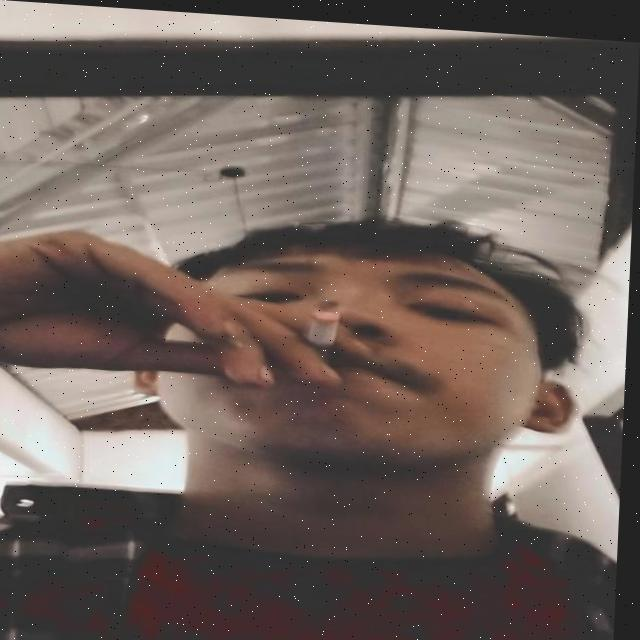cigarette: (309, 301, 345, 353)
